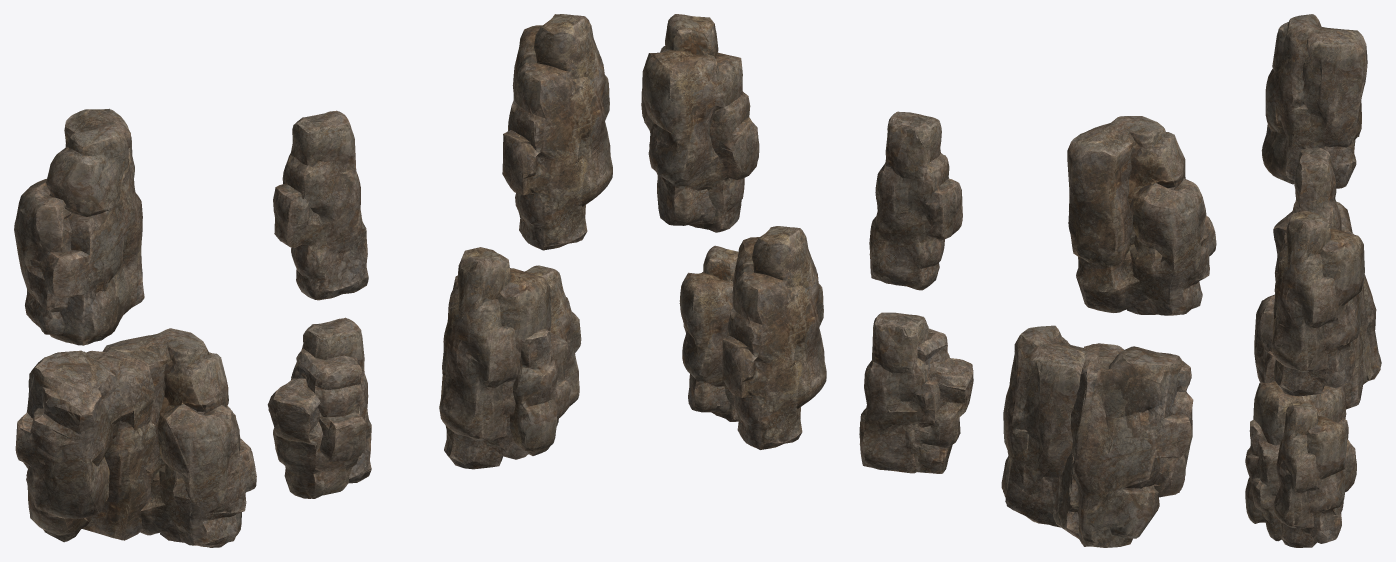
The model's file is Cave_Wall_RockFaces_A.fbx.
The picture shows the model from 3 angles, left to right: view 1: azimuth 30°, elevation 25°; view 2: azimuth 150°, elevation 25°; view 3: azimuth 270°, elevation 25°; orthographic projection. The views are drawn at different scales.
Visible parts, largest first — view 1: Cave_Wall_RockFace_C2, Cave_Wall_RockFace_C2.001, Cave_Wall_RockFace_C2.002, Cave_Wall_RockFace_B2, Cave_Wall_RockFace_C1, Cave_Wall_RockFace_B2.002, Cave_Wall_RockFace_B1, Cave_Wall_RockFace_B2.001, Cave_Wall_RockFace_C1.001, Cave_Wall_RockFace_C1.002, Cave_Wall_RockFace_B1.002, Cave_Wall_RockFace_A2 (+6 smaller); view 2: Cave_Wall_RockFace_C2, Cave_Wall_RockFace_B2, Cave_Wall_RockFace_C2.002, Cave_Wall_RockFace_C2.001, Cave_Wall_RockFace_C1, Cave_Wall_RockFace_B2.002, Cave_Wall_RockFace_B1, Cave_Wall_RockFace_C1.002, Cave_Wall_RockFace_B2.001, Cave_Wall_RockFace_C1.001, Cave_Wall_RockFace_B1.002, Cave_Wall_RockFace_A2 (+6 smaller); view 3: Cave_Wall_RockFace_B2, Cave_Wall_RockFace_B1, Cave_Wall_RockFace_C1, Cave_Wall_RockFace_B2.001, Cave_Wall_RockFace_C1.002, Cave_Wall_RockFace_B2.002, Cave_Wall_RockFace_C1.001, Cave_Wall_RockFace_B1.002, Cave_Wall_RockFace_B1.001, Cave_Wall_RockFace_C2.001, Cave_Wall_RockFace_C2, Cave_Wall_RockFace_C2.002 (+3 smaller).
Boxes of the visible parts, left/top/right/bottom form: Cave_Wall_RockFace_C2: left=16, top=330, right=256, bottom=547; Cave_Wall_RockFace_C2.001: left=15, top=329, right=256, bottom=546; Cave_Wall_RockFace_C2.002: left=17, top=328, right=256, bottom=547; Cave_Wall_RockFace_B2: left=439, top=247, right=581, bottom=468; Cave_Wall_RockFace_C1: left=14, top=109, right=144, bottom=345; Cave_Wall_RockFace_B2.002: left=439, top=247, right=580, bottom=468; Cave_Wall_RockFace_B1: left=502, top=14, right=612, bottom=250; Cave_Wall_RockFace_B2.001: left=439, top=247, right=581, bottom=469; Cave_Wall_RockFace_C1.001: left=14, top=109, right=143, bottom=343; Cave_Wall_RockFace_C1.002: left=14, top=108, right=143, bottom=345; Cave_Wall_RockFace_B1.002: left=502, top=14, right=612, bottom=248; Cave_Wall_RockFace_A2: left=268, top=318, right=371, bottom=498; Cave_Wall_RockFace_C2: left=1001, top=326, right=1192, bottom=547; Cave_Wall_RockFace_B2: left=680, top=226, right=826, bottom=449; Cave_Wall_RockFace_C2.002: left=1001, top=325, right=1192, bottom=546; Cave_Wall_RockFace_C2.001: left=1001, top=327, right=1193, bottom=547; Cave_Wall_RockFace_C1: left=1067, top=116, right=1215, bottom=315; Cave_Wall_RockFace_B2.002: left=679, top=226, right=826, bottom=449; Cave_Wall_RockFace_B1: left=641, top=14, right=759, bottom=232; Cave_Wall_RockFace_C1.002: left=1067, top=116, right=1216, bottom=315; Cave_Wall_RockFace_B2.001: left=679, top=226, right=826, bottom=449; Cave_Wall_RockFace_C1.001: left=1067, top=116, right=1215, bottom=315; Cave_Wall_RockFace_B1.002: left=641, top=14, right=758, bottom=230; Cave_Wall_RockFace_A2: left=859, top=312, right=973, bottom=473; Cave_Wall_RockFace_B2: left=1245, top=360, right=1356, bottom=547; Cave_Wall_RockFace_B1: left=1271, top=211, right=1364, bottom=395; Cave_Wall_RockFace_C1: left=1262, top=14, right=1367, bottom=188; Cave_Wall_RockFace_B2.001: left=1245, top=361, right=1356, bottom=547; Cave_Wall_RockFace_C1.002: left=1263, top=14, right=1367, bottom=188; Cave_Wall_RockFace_B2.002: left=1245, top=359, right=1356, bottom=547; Cave_Wall_RockFace_C1.001: left=1261, top=14, right=1367, bottom=187; Cave_Wall_RockFace_B1.002: left=1271, top=210, right=1364, bottom=395; Cave_Wall_RockFace_B1.001: left=1271, top=211, right=1364, bottom=396; Cave_Wall_RockFace_C2.001: left=1254, top=203, right=1380, bottom=408; Cave_Wall_RockFace_C2: left=1254, top=202, right=1381, bottom=409; Cave_Wall_RockFace_C2.002: left=1255, top=201, right=1380, bottom=405.
Size of the model in its own units: 6091 by 4295 by 1467.
